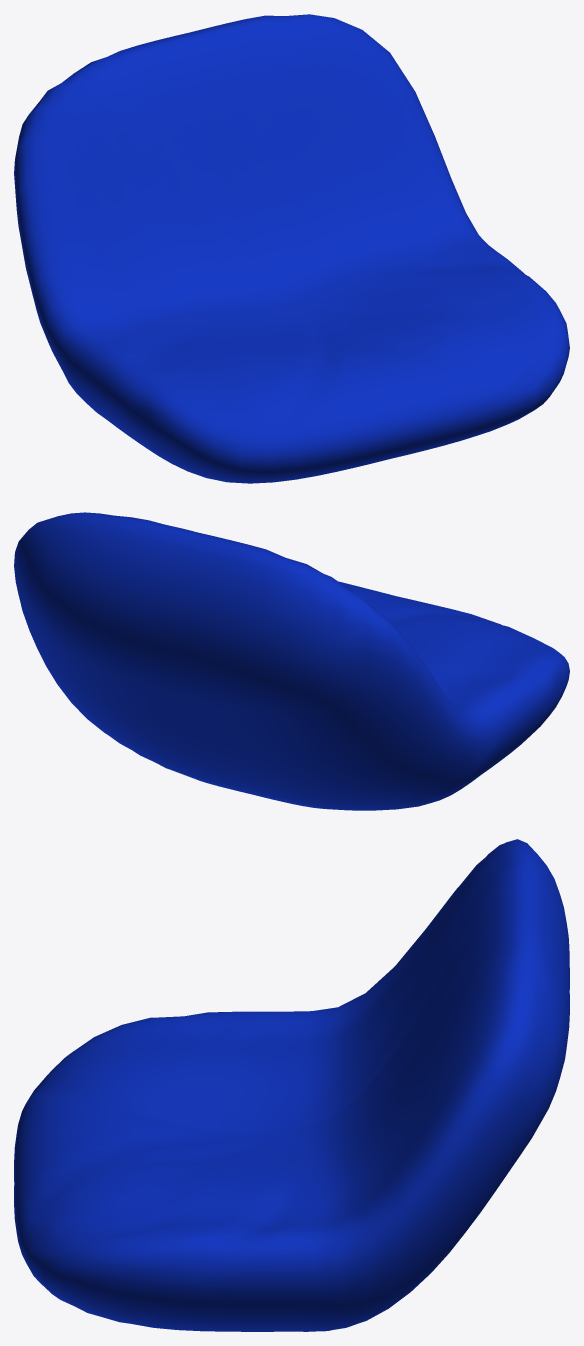
The model's file is beanBag-3.glb.
3 views of the same model, one above another, from view 1: azimuth 30°, elevation 25°; view 2: azimuth 150°, elevation 25°; view 3: azimuth 270°, elevation 25° (orthographic). The views are drawn at different scales.
Visible parts, largest first — view 1: beanBag_3_continuous_cloth; view 2: beanBag_3_continuous_cloth; view 3: beanBag_3_continuous_cloth.
Boxes of the visible parts, x1,y1,x2,y2 form: beanBag_3_continuous_cloth: (14, 14, 569, 483); beanBag_3_continuous_cloth: (14, 512, 569, 810); beanBag_3_continuous_cloth: (14, 839, 569, 1331).
Size of the model in its own units: 1.02 by 0.7 by 0.98.
